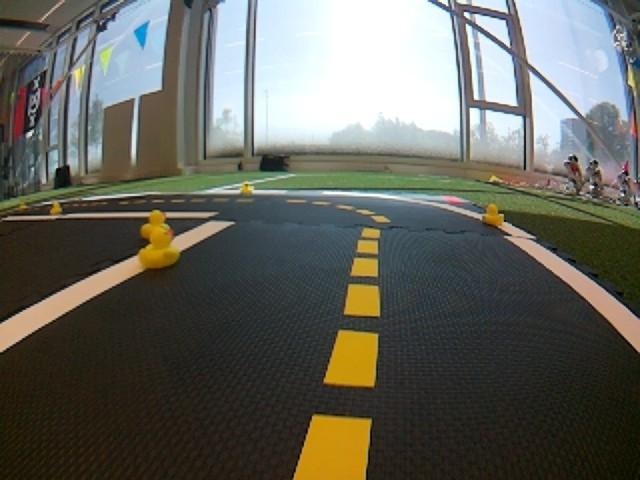Duckies: (139, 228, 181, 265), (139, 209, 173, 240), (483, 204, 504, 223), (239, 183, 253, 194), (49, 203, 62, 213), (20, 201, 26, 209)
